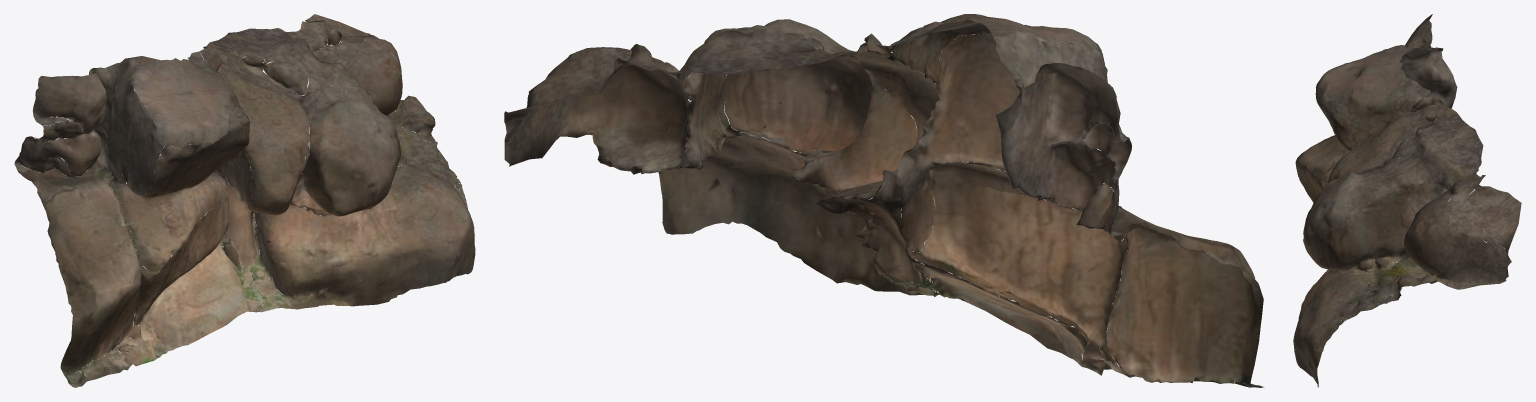
Rendered from namaqualand_cliff_01.glb.
3 renders of one model, left to right at view 1: azimuth 30°, elevation 25°; view 2: azimuth 150°, elevation 25°; view 3: azimuth 270°, elevation 25°, orthographic. The views are drawn at different scales.
Parts seen in each view (by area): view 1: drone_rock_01; view 2: drone_rock_01; view 3: drone_rock_01.
Part boxes in pixels (x1,y1,x2,y2): drone_rock_01: [14, 14, 475, 387]; drone_rock_01: [504, 14, 1264, 387]; drone_rock_01: [1293, 14, 1521, 387].
Bounding box in the file's own units: 8.28 × 4.96 × 4.39.
1 material, 1 textured.
